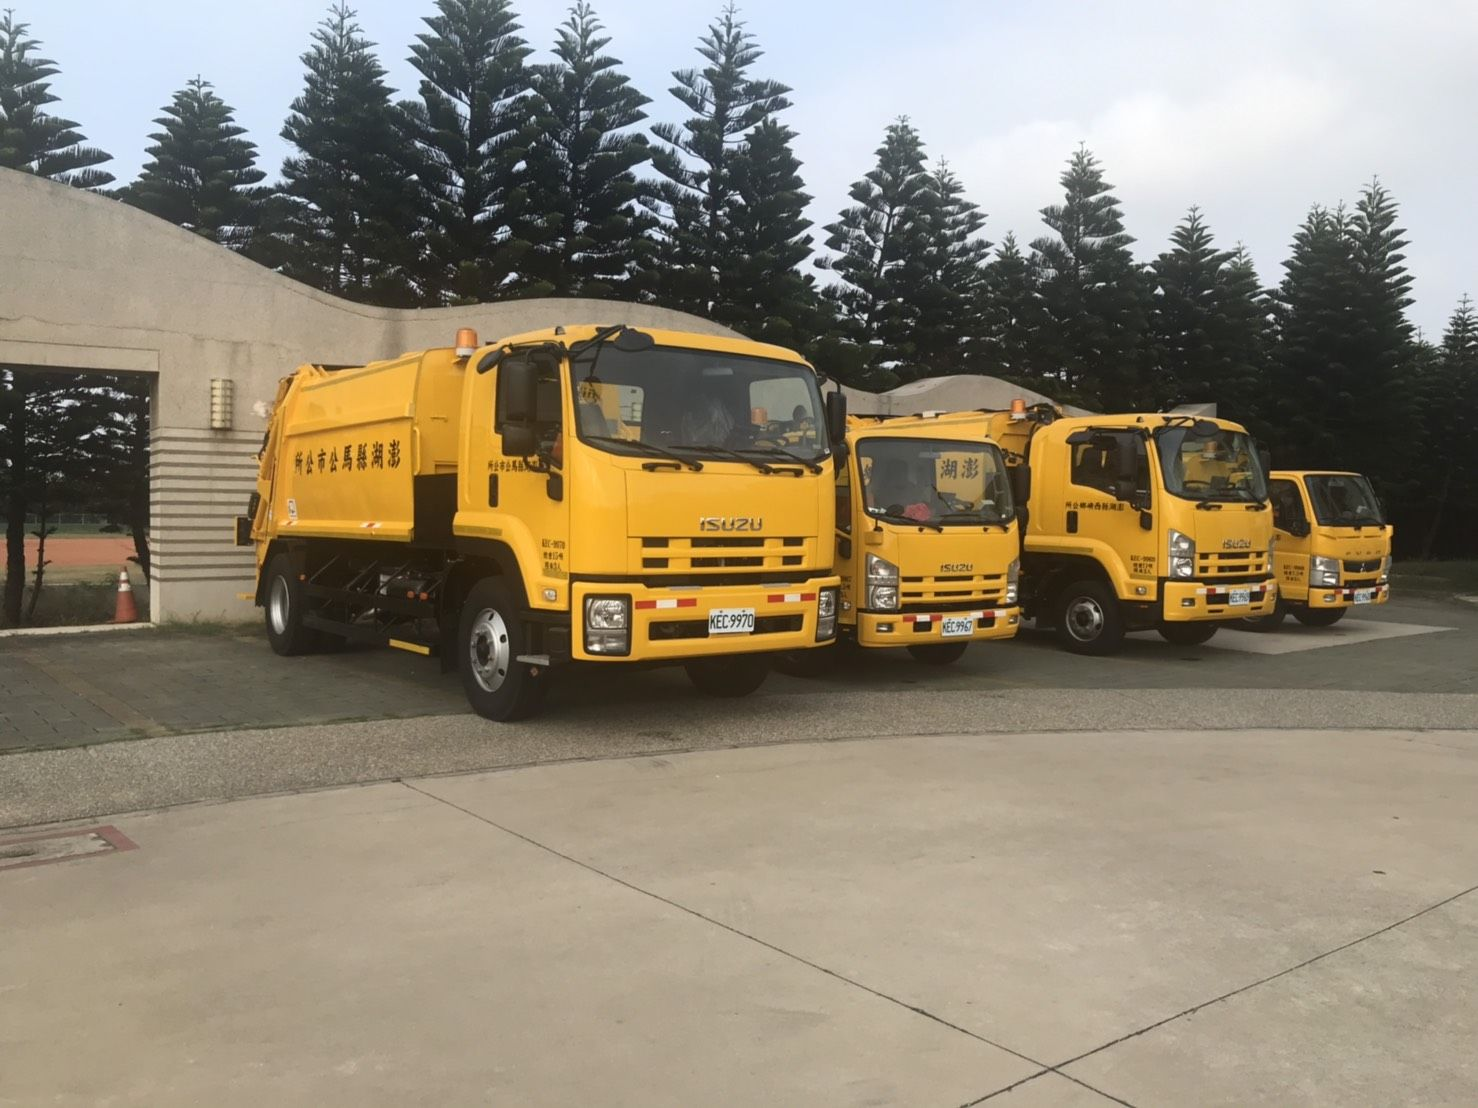garbagetruck: (198, 136, 826, 757)
